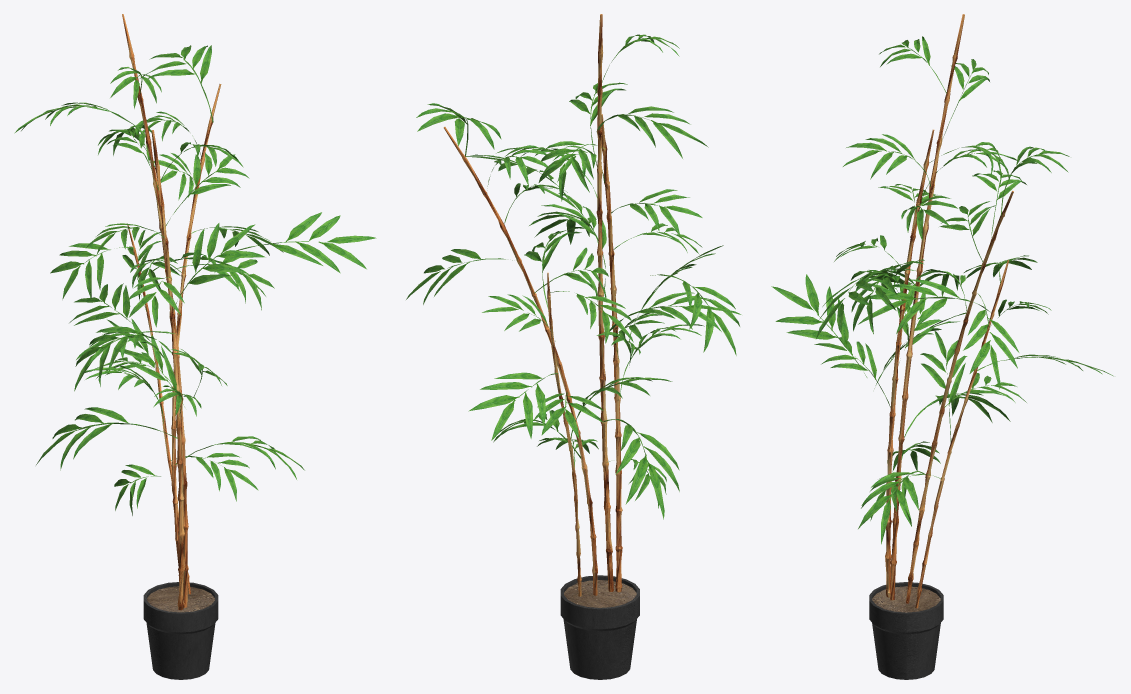
The model's file is Plant 1.fbx.
3 renders of one model, left to right at view 1: azimuth 30°, elevation 25°; view 2: azimuth 150°, elevation 25°; view 3: azimuth 270°, elevation 25°, orthographic. The views are drawn at different scales.
Visible parts, largest first — view 1: Plant 1; view 2: Plant 1; view 3: Plant 1.
Boxes of the visible parts, x1=… form: Plant 1: x1=14, y1=14, x2=376, y2=679; Plant 1: x1=406, y1=14, x2=741, y2=679; Plant 1: x1=771, y1=14, x2=1113, y2=679.
Bounding box in the file's own units: 171 × 351 × 172.
2 materials, 2 textured.
